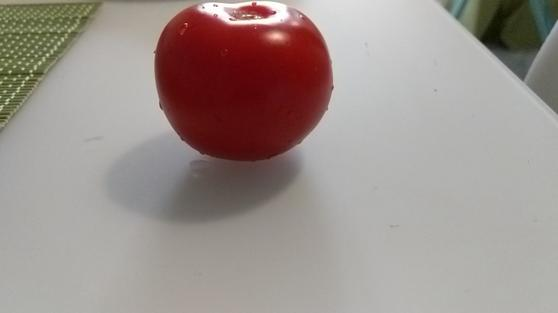tomato: (151, 1, 342, 167)
